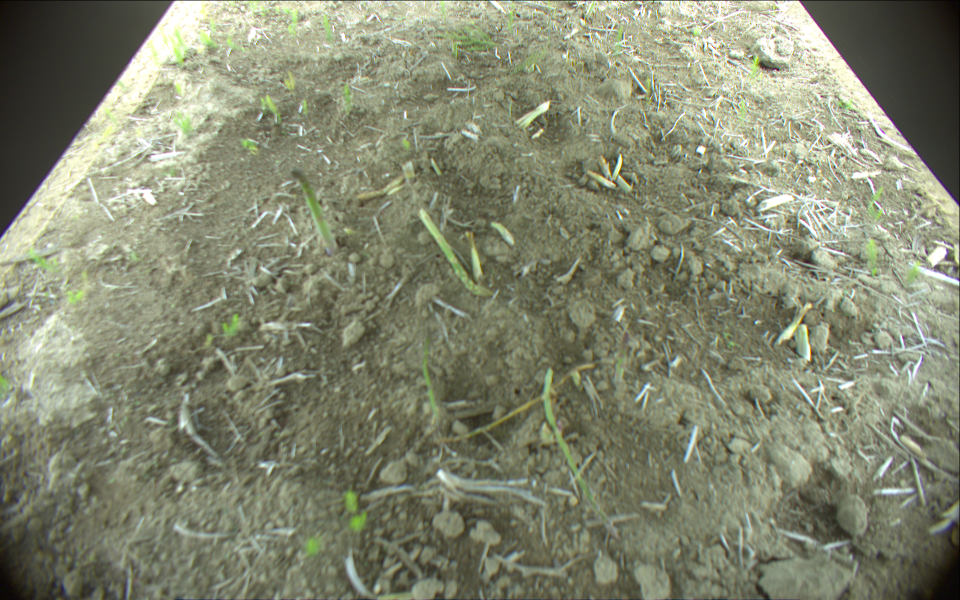aspa: (542, 369, 621, 540), (418, 210, 488, 295), (291, 168, 339, 258), (420, 326, 444, 422)
